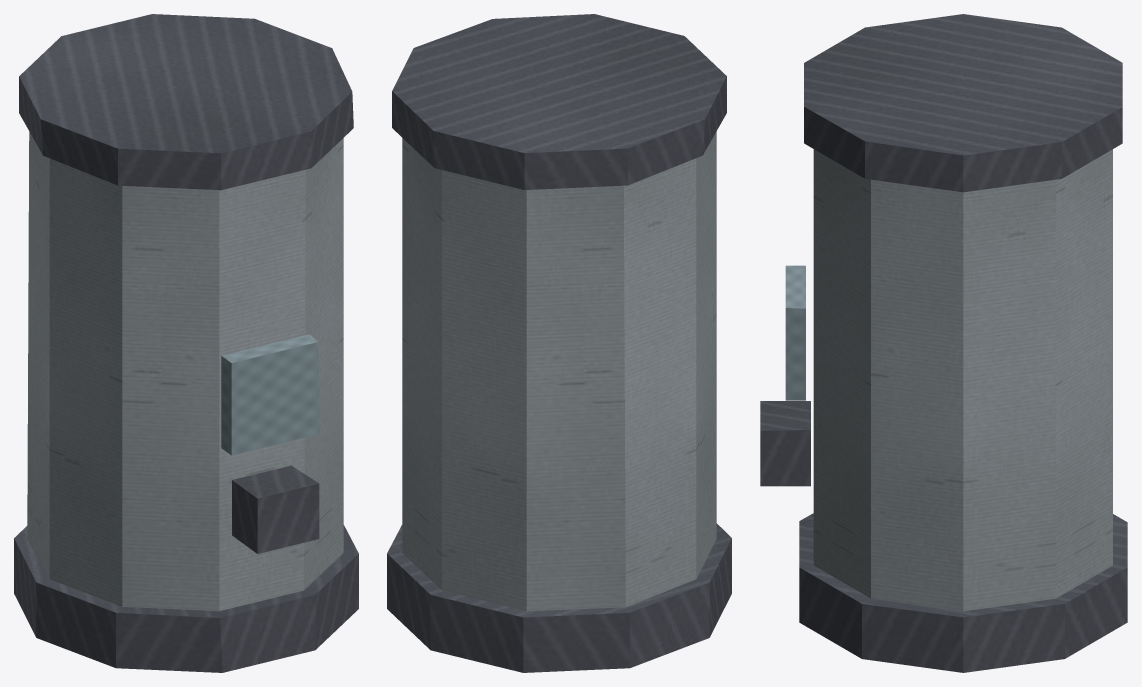
The model's file is coffeemachine_v4.glb.
The picture shows the model from 3 angles, left to right: view 1: azimuth 30°, elevation 25°; view 2: azimuth 150°, elevation 25°; view 3: azimuth 270°, elevation 25°; orthographic projection.
Parts seen in each view (by area): view 1: Variant_coffeemachine_4; view 2: Variant_coffeemachine_4; view 3: Variant_coffeemachine_4.
Part boxes in pixels (x1,y1,x2,y2): Variant_coffeemachine_4: (14,14,358,672); Variant_coffeemachine_4: (387,14,731,672); Variant_coffeemachine_4: (760,14,1127,672).
Size of the model in its own units: 0.34 by 0.56 by 0.3617.
Materials: 3 (3 with a texture image).
